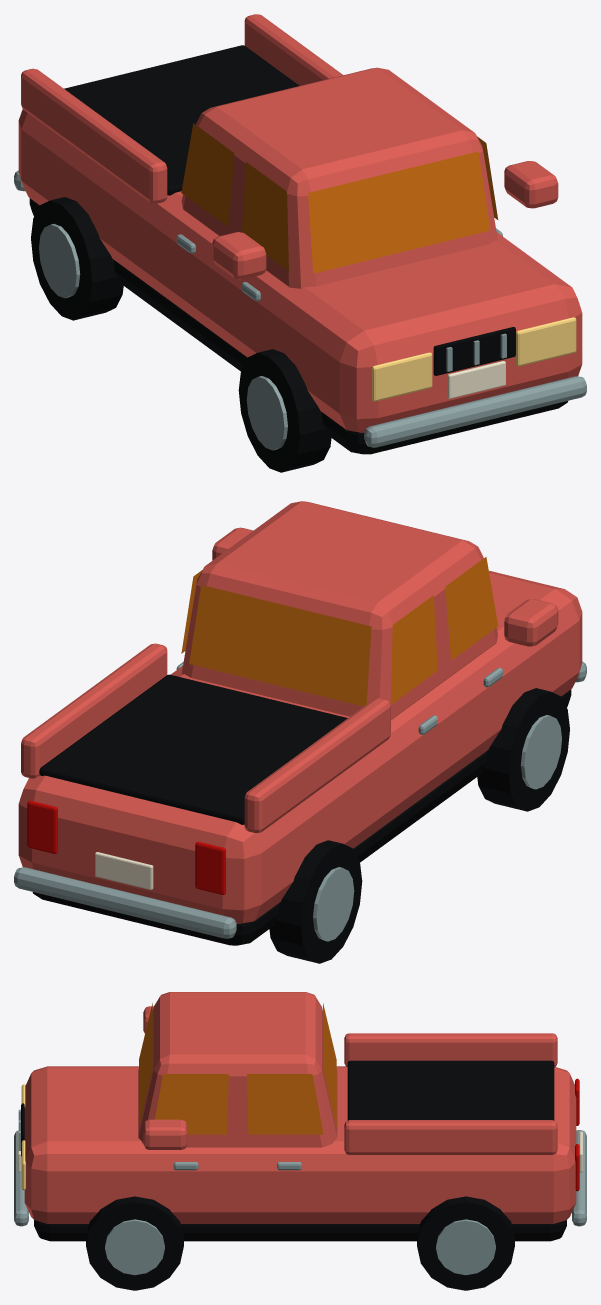
Rendered from HNP_Pickup_v003.fbx.
3 views of the same model, one above another, from view 1: azimuth 30°, elevation 25°; view 2: azimuth 150°, elevation 25°; view 3: azimuth 270°, elevation 25° (orthographic). The views are drawn at different scales.
Visible parts, largest first — view 1: HNP_Pickup_v003_HNP3_Body, HNP_Pickup_v003_HNP3_Atlas, Wheel_-1_-1.32, Wheel_-1_1.32, WheelRim.001, WheelRim; view 2: HNP_Pickup_v003_HNP3_Body, HNP_Pickup_v003_HNP3_Atlas, Wheel_-1_1.32, Wheel_-1_-1.32, WheelRim.001, WheelRim; view 3: HNP_Pickup_v003_HNP3_Body, HNP_Pickup_v003_HNP3_Atlas, Wheel_1_-1.32, Wheel_1_1.32, WheelRim.002, WheelRim.003.
Part boxes in pixels (box(x1,y1,x2,y2)): HNP_Pickup_v003_HNP3_Body: box(18, 14, 582, 432); HNP_Pickup_v003_HNP3_Atlas: box(14, 45, 586, 454); Wheel_-1_-1.32: box(31, 197, 123, 320); Wheel_-1_1.32: box(238, 349, 331, 472); WheelRim.001: box(246, 376, 287, 450); WheelRim: box(39, 224, 80, 298); HNP_Pickup_v003_HNP3_Body: box(18, 501, 582, 923); HNP_Pickup_v003_HNP3_Atlas: box(14, 557, 586, 945); Wheel_-1_1.32: box(477, 688, 569, 811); Wheel_-1_-1.32: box(269, 840, 362, 963); WheelRim.001: box(520, 715, 561, 789); WheelRim: box(313, 867, 354, 941); HNP_Pickup_v003_HNP3_Body: box(24, 992, 576, 1223); HNP_Pickup_v003_HNP3_Atlas: box(14, 1003, 586, 1241); Wheel_1_-1.32: box(417, 1196, 514, 1290); Wheel_1_1.32: box(86, 1196, 183, 1290); WheelRim.002: box(436, 1219, 495, 1275); WheelRim.003: box(105, 1219, 164, 1275).
Bounding box in the file's own units: 238 × 189 × 457.
2 materials, 1 textured.
